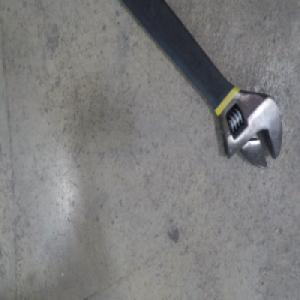AdjustableWrench: (121, 0, 282, 171)
